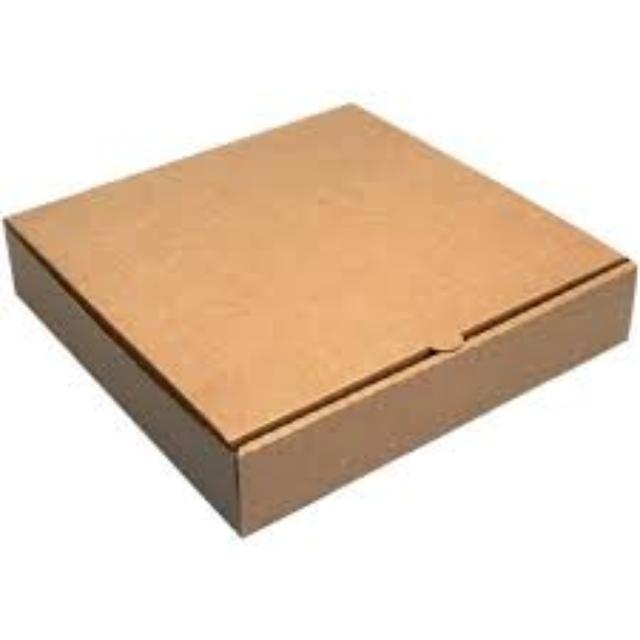cardboard paper: (3, 102, 629, 529)
